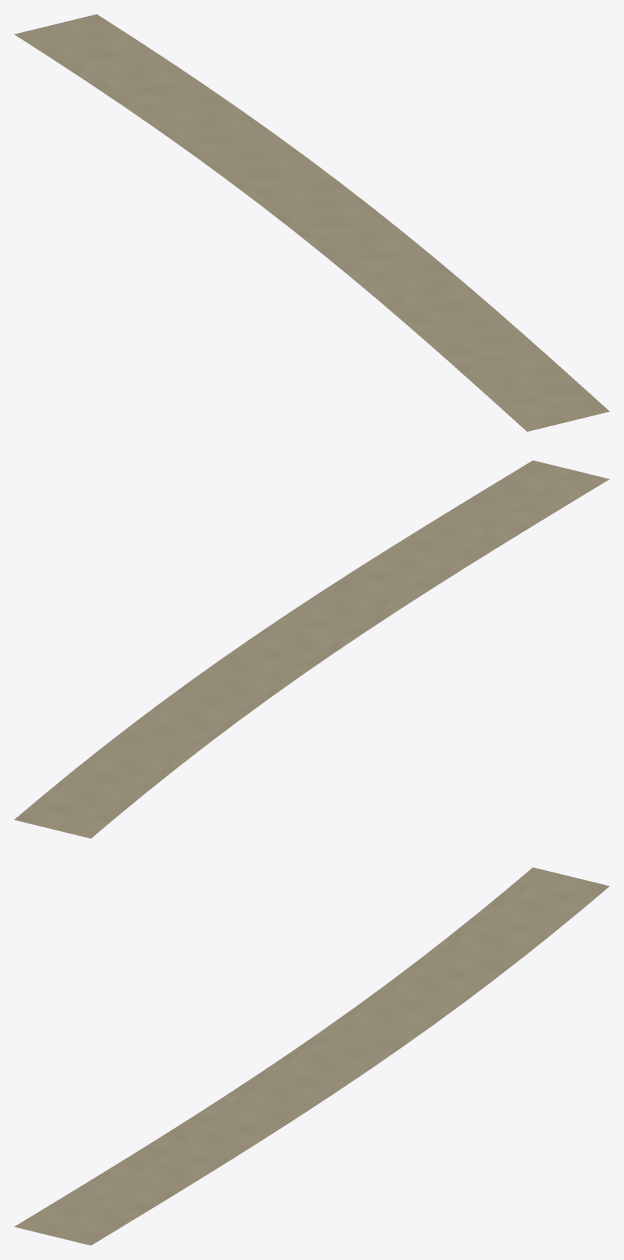
The model's file is Access_Road.glb.
3 views of the same model, one above another, from view 1: azimuth 30°, elevation 25°; view 2: azimuth 150°, elevation 25°; view 3: azimuth 330°, elevation 25° (orthographic). The views are drawn at different scales.
Visible parts, largest first — view 1: Access_Road; view 2: Access_Road; view 3: Access_Road.
Part boxes in pixels (<box>): Access_Road: <box>14,14,609,431</box>; Access_Road: <box>14,460,609,838</box>; Access_Road: <box>14,867,609,1245</box>.
Size of the model in its own units: 4.2 by 0 by 33.6.
Materials: 1 (1 with a texture image).
